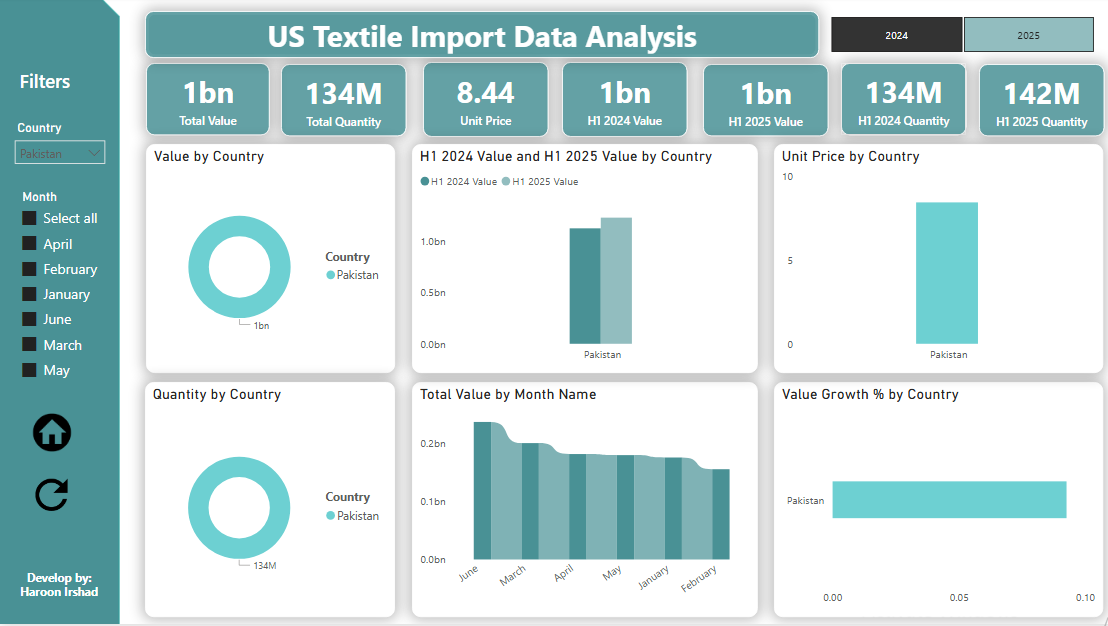

The dashboard page shown, as its layout file describes it:
{"tool":"powerbi","page":{"name":"Page 1","canvas":[1280,720],"ordinal":0},"visuals":[{"type":"card","fields":{"Values":["Imports.Total Quantity"]},"box":[322.4,77.3,143.6,83],"z":0},{"type":"card","fields":{"Values":["Imports.Total Value"]},"box":[167.6,75.7,142,83],"z":1000},{"type":"card","fields":{"Values":["Imports.Unit Price"]},"box":[485.2,74.1,143.6,86.2],"z":2000},{"type":"card","fields":{"Values":["Imports.H1 2024 Value"]},"box":[645.7,74.1,143.6,86.2],"z":3000},{"type":"card","fields":{"Values":["Imports.H1 2025 Value"]},"box":[807.6,77.3,143.6,83],"z":4000},{"type":"card","fields":{"Values":["Imports.H1 2024 Quantity"]},"box":[965.6,75.7,143.6,83],"z":5000},{"type":"card","fields":{"Values":["Imports.H1 2025 Quantity"]},"box":[1123.6,77.3,143.6,83],"z":6000},{"type":"ribbonChart","fields":{"Category":["Imports.Month Name"],"Y":["All_Measure.Total Value"]},"box":[472.4,442.1,397.4,269.7],"z":7000},{"type":"clusteredColumnChart","fields":{"Y":["Imports.H1 2024 Value","Imports.H1 2025 Value"],"Category":["Imports.Country"]},"box":[472.4,169.2,397.4,263.3],"z":8000},{"type":"barChart","fields":{"Y":["All_Measure.Value Growth %"],"Category":["Imports.Country"]},"box":[889,442.1,378.3,269.7],"z":9000},{"type":"clusteredColumnChart","fields":{"Category":["Imports.Country"],"Y":["All_Measure.Unit Price"]},"box":[889,169.2,378.3,263.3],"z":10000},{"type":"donutChart","title":"Value by Country","fields":{"Category":["Imports.Country"],"Y":["All_Measure.Total Value"]},"box":[167.6,169.2,285.7,263.3],"z":11000},{"type":"donutChart","title":"Quantity by Country","fields":{"Category":["Imports.Country"],"Y":["All_Measure.Total Quantity"]},"box":[166,442.1,287.3,269.7],"z":12000},{"type":"slicer","fields":{"Values":["Imports.Month Name"]},"box":[12.6,215.8,105.6,244.5],"z":13000},{"type":"slicer","fields":{"Values":["Imports.Country"]},"box":[6.9,136.6,124,73.5],"z":14000},{"type":"slicer","fields":{"Values":["Imports.Year"]},"box":[928.9,16,351.1,54.3],"z":15000},{"type":"textbox","box":[17.2,76.9,113.7,41.3],"z":16000},{"type":"image","box":[28.7,464.9,62,70],"z":17000},{"type":"image","box":[35.6,543,47.1,57.4],"z":18000},{"type":"shape","box":[166.4,15.9,774.1,54.2],"z":18001},{"type":"shape","box":[17.2,629.1,101,90.7],"z":18002}]}

Visuals, with their boxes in screenshot pixels (x1, y1, x2, y2), scaled from the page's 1280x720 canvas onto the 1108x626 screenshot:
card - Imports.Total Quantity: {"left": 279, "top": 67, "right": 403, "bottom": 139}
card - Imports.Total Value: {"left": 145, "top": 66, "right": 268, "bottom": 138}
card - Imports.Unit Price: {"left": 420, "top": 64, "right": 544, "bottom": 139}
card - Imports.H1 2024 Value: {"left": 559, "top": 64, "right": 683, "bottom": 139}
card - Imports.H1 2025 Value: {"left": 699, "top": 67, "right": 823, "bottom": 139}
card - Imports.H1 2024 Quantity: {"left": 836, "top": 66, "right": 960, "bottom": 138}
card - Imports.H1 2025 Quantity: {"left": 973, "top": 67, "right": 1097, "bottom": 139}
ribbonChart - Imports.Month Name x All_Measure.Total Value: {"left": 409, "top": 384, "right": 753, "bottom": 619}
clusteredColumnChart - Imports.H1 2024 Value x Imports.H1 2025 Value: {"left": 409, "top": 147, "right": 753, "bottom": 376}
barChart - All_Measure.Value Growth % x Imports.Country: {"left": 770, "top": 384, "right": 1097, "bottom": 619}
clusteredColumnChart - Imports.Country x All_Measure.Unit Price: {"left": 770, "top": 147, "right": 1097, "bottom": 376}
"Value by Country" donutChart: {"left": 145, "top": 147, "right": 392, "bottom": 376}
"Quantity by Country" donutChart: {"left": 144, "top": 384, "right": 392, "bottom": 619}
slicer - Imports.Month Name: {"left": 11, "top": 188, "right": 102, "bottom": 400}
slicer - Imports.Country: {"left": 6, "top": 119, "right": 113, "bottom": 183}
slicer - Imports.Year: {"left": 804, "top": 14, "right": 1107, "bottom": 61}
textbox: {"left": 15, "top": 67, "right": 113, "bottom": 103}
image: {"left": 25, "top": 404, "right": 79, "bottom": 465}
image: {"left": 31, "top": 472, "right": 72, "bottom": 522}
shape: {"left": 144, "top": 14, "right": 814, "bottom": 61}
shape: {"left": 15, "top": 547, "right": 102, "bottom": 625}
